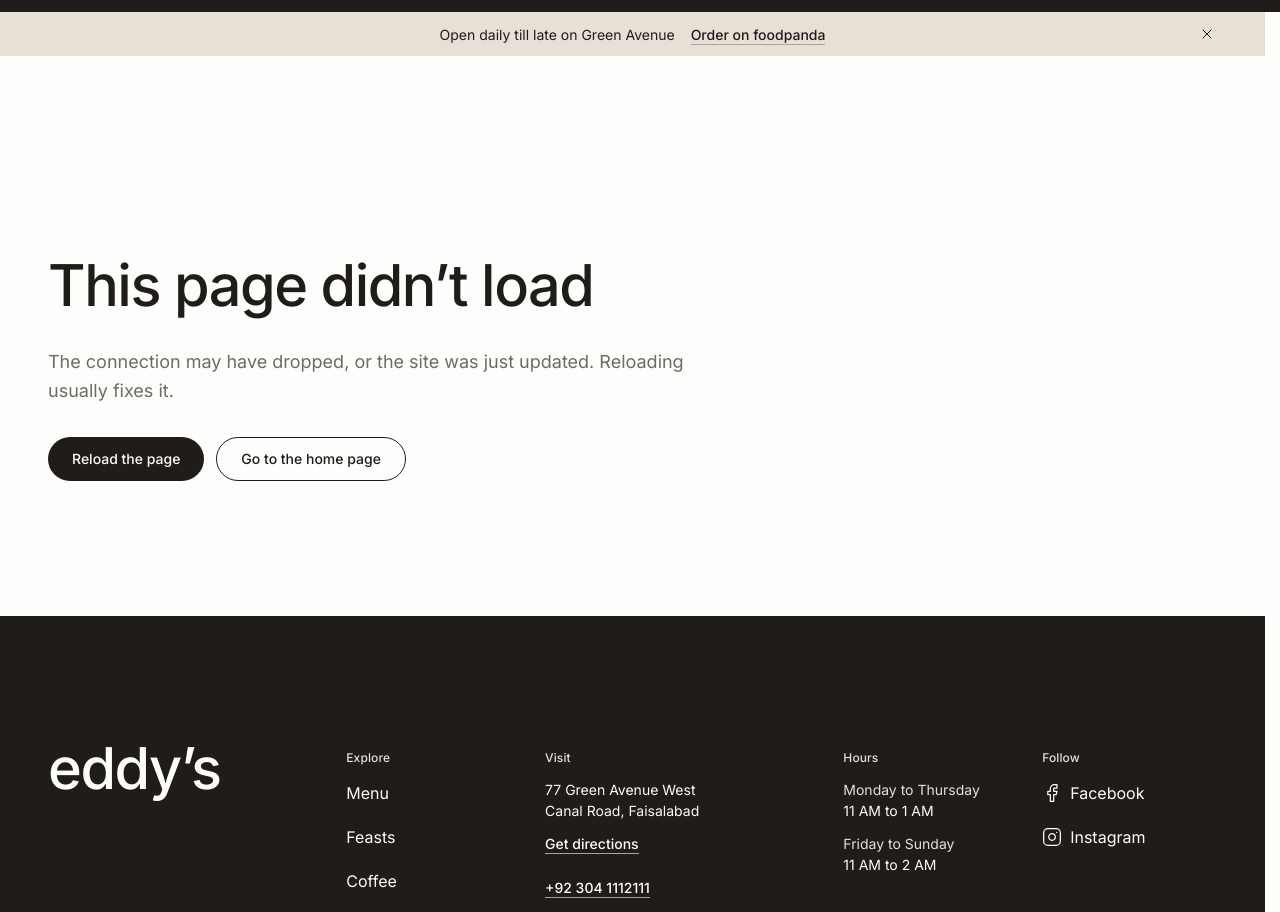
Scenario: AnnouncementBar › still works when storage is blocked
Click the button named "Dismiss announcement" at [1207, 34], box [1185,12,1229,56]
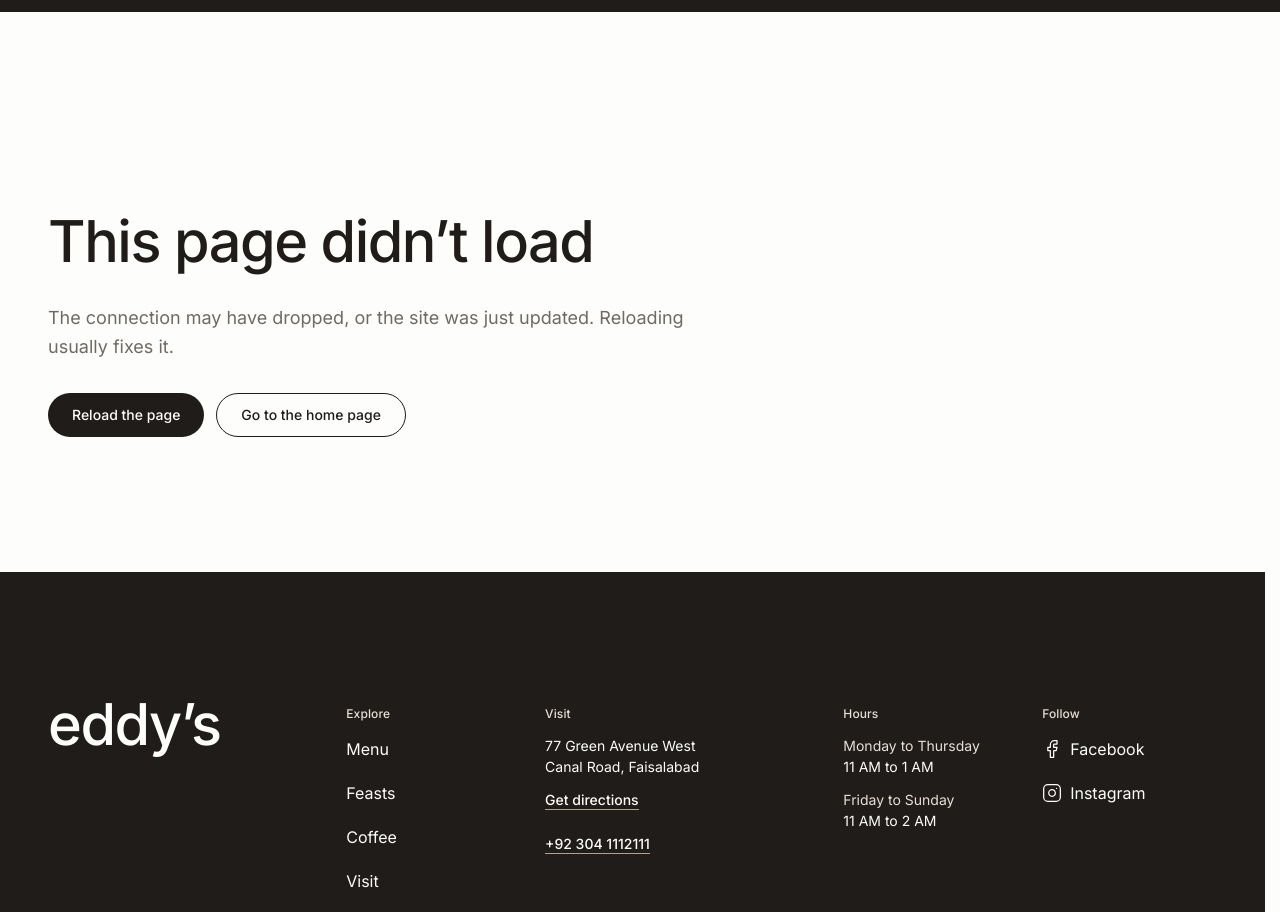
Expected: the button "Announcement" is gone
